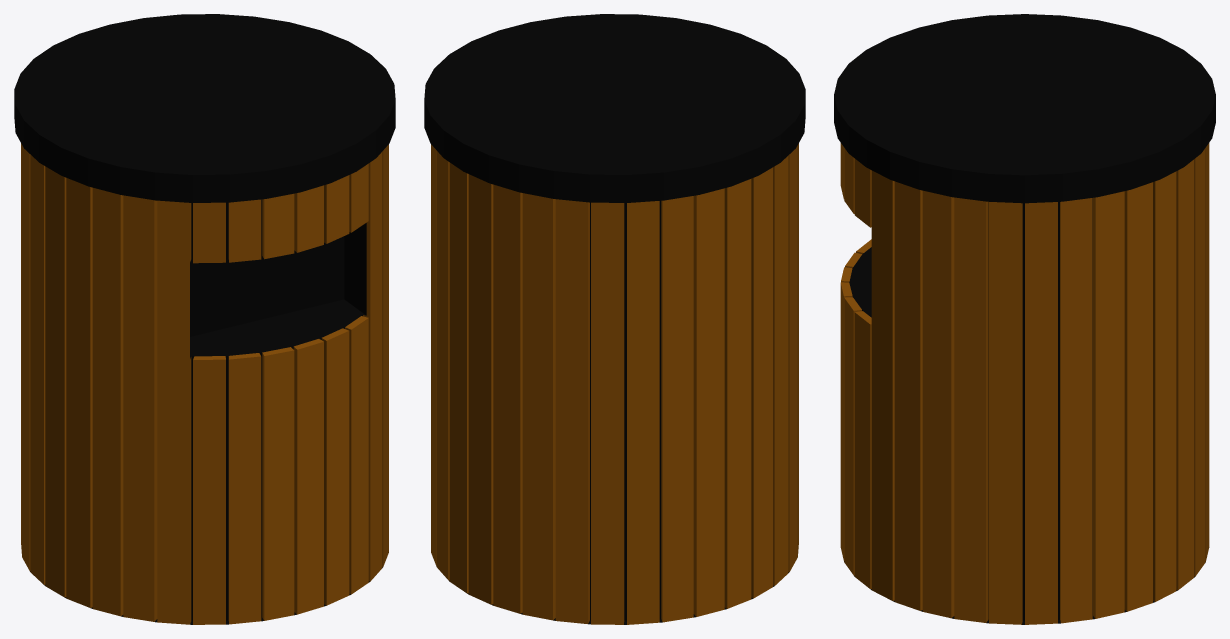
The model's file is Poubelle.fbx.
3 views of the same model, side by side, from view 1: azimuth 30°, elevation 25°; view 2: azimuth 150°, elevation 25°; view 3: azimuth 270°, elevation 25° (orthographic).
Visible parts, largest first — view 1: Cylinder; view 2: Cylinder; view 3: Cylinder.
Boxes of the visible parts, box(x1,y1,x2,y2) form: Cylinder: box(14, 14, 395, 624); Cylinder: box(424, 14, 805, 624); Cylinder: box(834, 14, 1215, 624).
Size of the model in its own units: 715 by 935 by 715.
